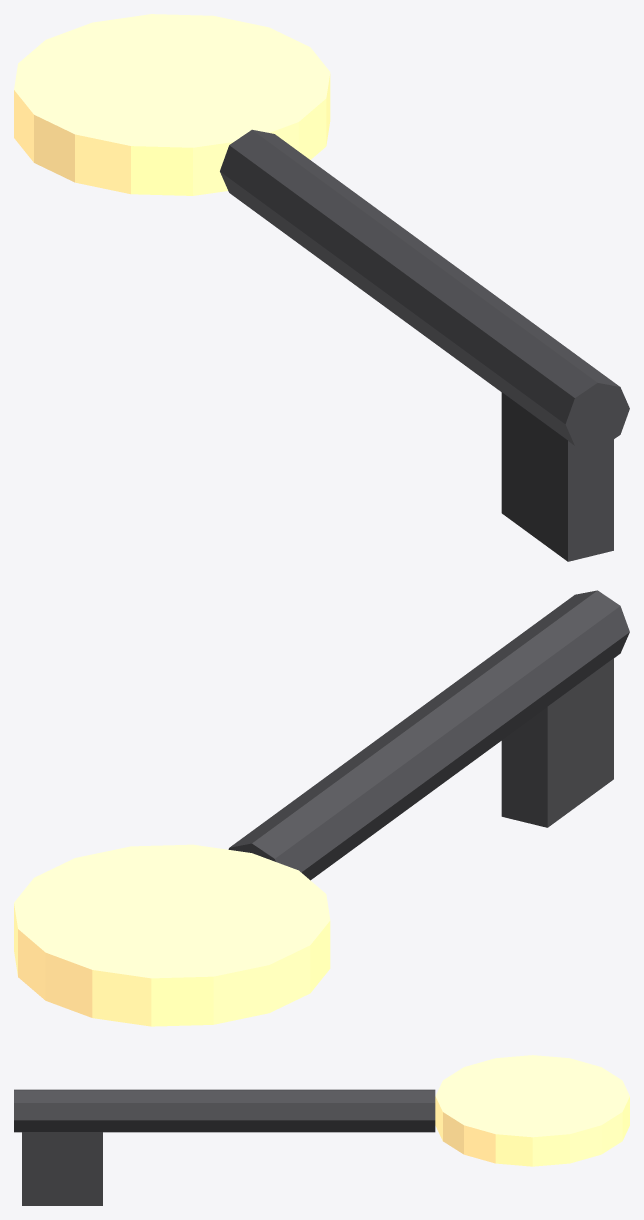
File: Key.glb
3 views of the same model, one above another, from view 1: azimuth 30°, elevation 25°; view 2: azimuth 150°, elevation 25°; view 3: azimuth 270°, elevation 25° (orthographic). The views are drawn at different scales.
Visible parts, largest first — view 1: Key; view 2: Key; view 3: Key.
Part boxes in pixels (<box>): Key: <box>14,14,629,561</box>; Key: <box>14,590,629,1026</box>; Key: <box>14,1055,629,1205</box>.
Bounding box in the file's own units: 0.12 × 0.074 × 0.38.
